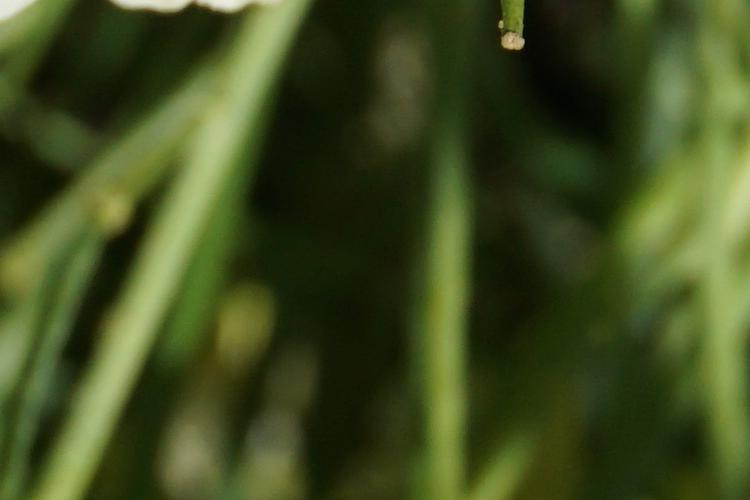pod: (488, 2, 542, 62)
